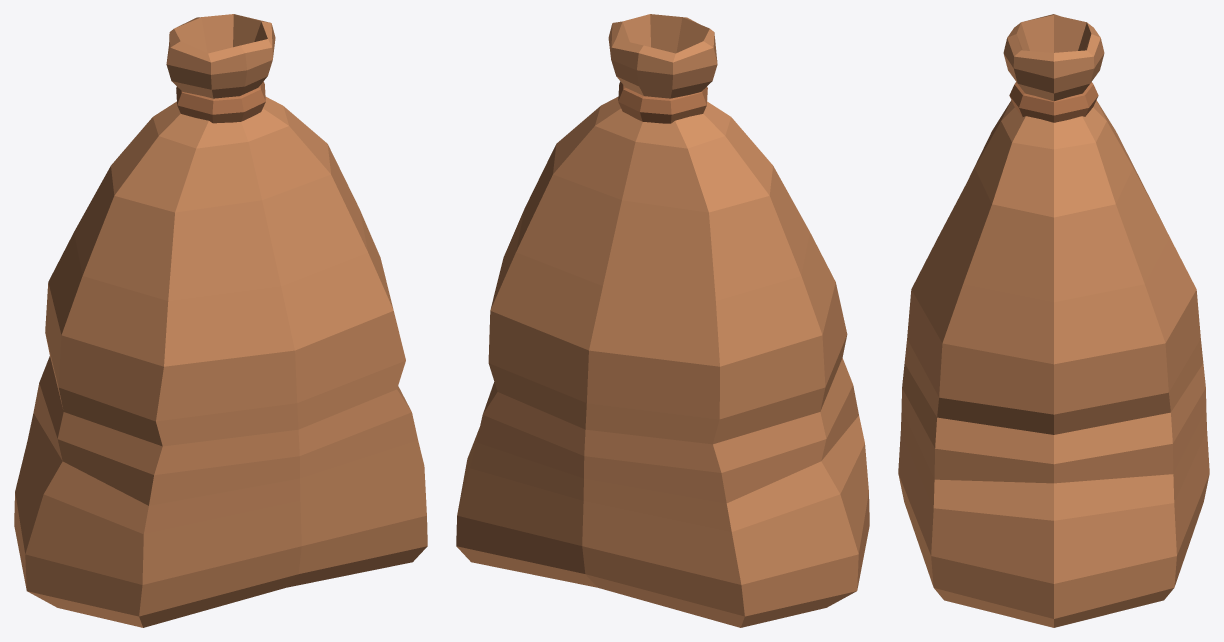
The model's file is Sack_1.fbx.
3 renders of one model, left to right at view 1: azimuth 30°, elevation 25°; view 2: azimuth 150°, elevation 25°; view 3: azimuth 270°, elevation 25°, orthographic. The views are drawn at different scales.
Parts seen in each view (by area): view 1: Sack_1; view 2: Sack_1; view 3: Sack_1.
Part boxes in pixels (box(x1,y1,x2,y2)): Sack_1: box(14, 14, 427, 627); Sack_1: box(456, 14, 869, 627); Sack_1: box(898, 14, 1209, 627).
Bounding box in the file's own units: 0.7469 × 0.5343 × 0.9785.
